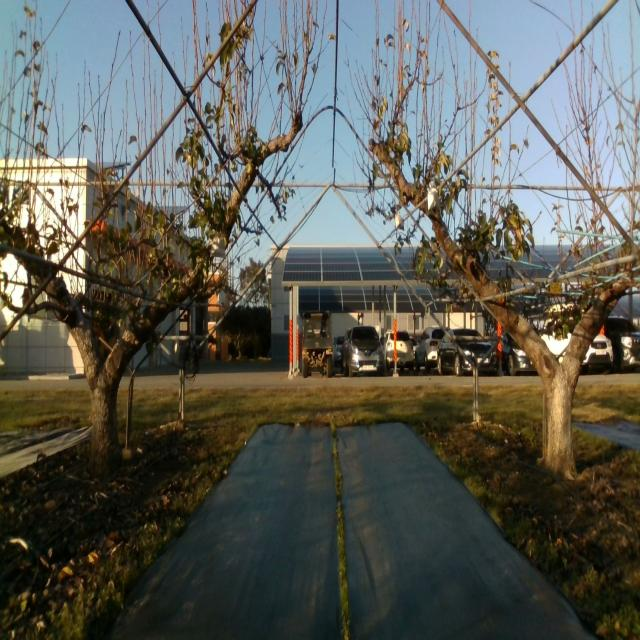pearbags: (210, 234, 227, 260), (427, 182, 440, 210)
